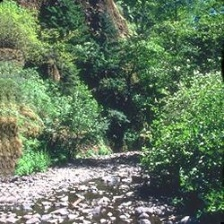neutral: (1, 1, 223, 223)
